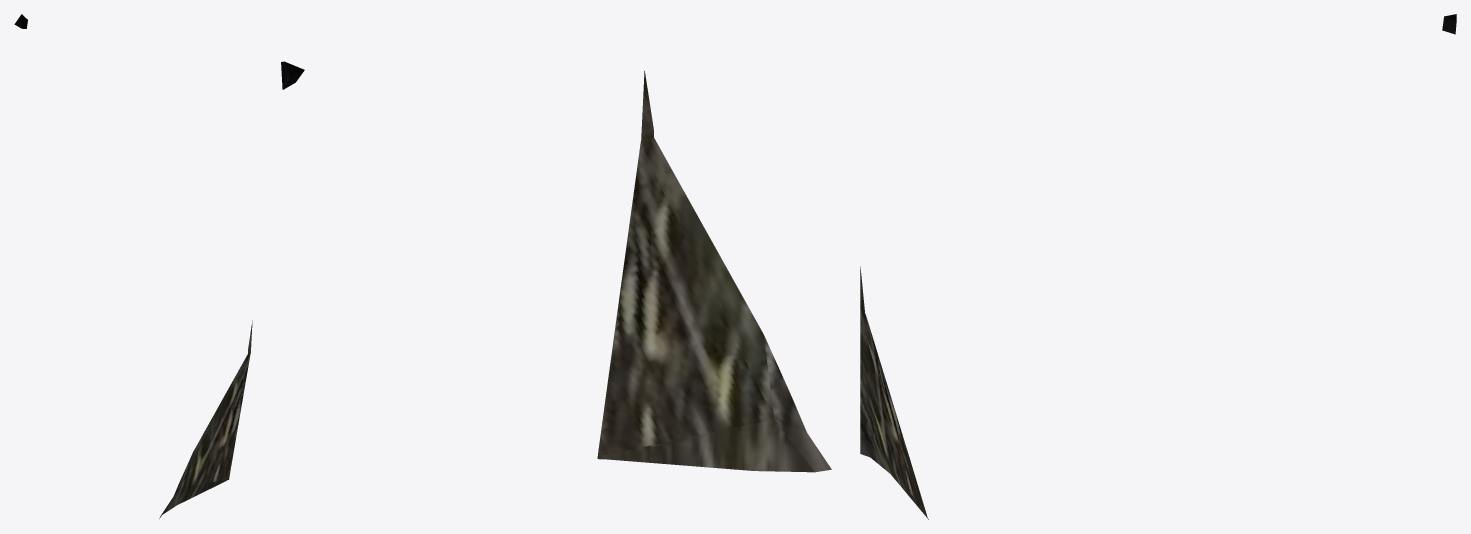
3 views of the same model, side by side, from view 1: azimuth 30°, elevation 25°; view 2: azimuth 150°, elevation 25°; view 3: azimuth 270°, elevation 25° (orthographic). The views are drawn at different scales.
Size of the model in its own units: 0.6068 by 2.09 by 2.31.
Materials: 1 (1 with a texture image).
